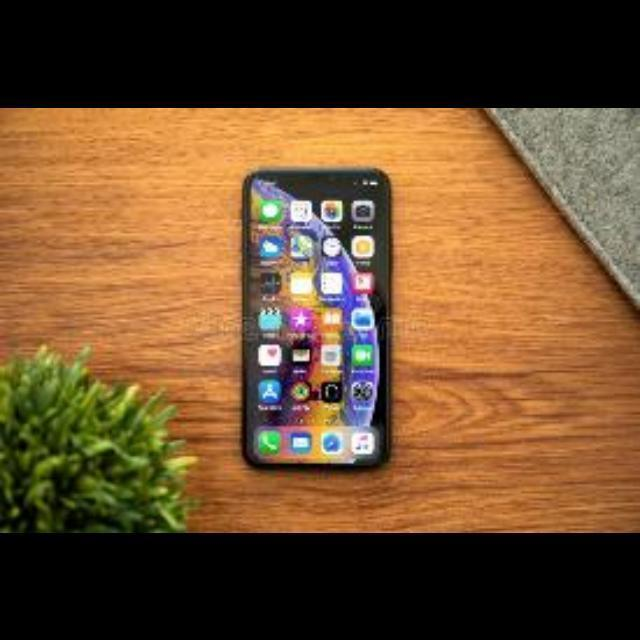phone: (236, 168, 392, 471)
